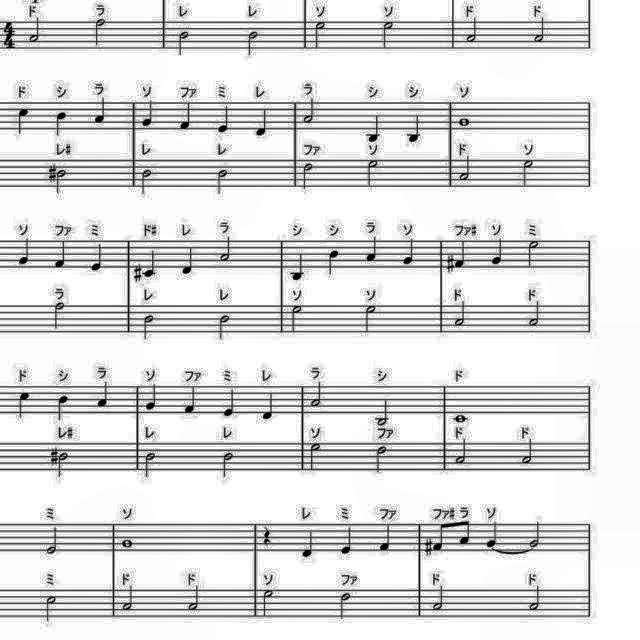Diez: (130, 262, 142, 284), (444, 254, 456, 274), (49, 446, 60, 466), (424, 536, 434, 558), (48, 163, 56, 185)
Eighth-note: (432, 519, 446, 553), (456, 519, 472, 547)
Full-note: (455, 114, 473, 130), (450, 413, 470, 427), (120, 538, 136, 550)
Half-note: (360, 302, 382, 336), (42, 525, 64, 559), (208, 166, 232, 197), (529, 15, 551, 45), (308, 17, 329, 48), (519, 156, 537, 192), (378, 20, 398, 52), (42, 592, 62, 624), (142, 450, 162, 480), (452, 438, 472, 468), (302, 98, 322, 128), (299, 160, 317, 192), (335, 590, 353, 622), (364, 157, 381, 190), (172, 29, 192, 57), (464, 17, 484, 45), (218, 450, 238, 478), (519, 439, 539, 467), (186, 584, 206, 612), (51, 300, 68, 332), (526, 236, 542, 270), (307, 442, 325, 472), (372, 396, 390, 426), (138, 166, 154, 198), (287, 303, 303, 335), (430, 582, 446, 614), (91, 18, 109, 46), (121, 584, 139, 612), (527, 584, 545, 612), (457, 155, 473, 185), (216, 313, 232, 343), (308, 379, 324, 409), (374, 443, 390, 473), (28, 16, 44, 44), (244, 30, 260, 58), (219, 234, 233, 266), (454, 296, 468, 328), (528, 300, 544, 328), (55, 166, 69, 198), (56, 450, 70, 478), (262, 588, 274, 620), (142, 313, 154, 343), (530, 520, 542, 550)
Quarter-note: (404, 112, 426, 146), (366, 112, 386, 146), (140, 246, 160, 280), (137, 99, 159, 129), (338, 526, 358, 558), (482, 519, 503, 549), (89, 241, 107, 275), (290, 249, 308, 283), (184, 383, 202, 417), (177, 100, 196, 132), (376, 522, 396, 552), (14, 104, 32, 136), (16, 236, 34, 268), (179, 244, 197, 276), (401, 236, 419, 268), (95, 379, 114, 409), (492, 235, 508, 269), (302, 526, 318, 560), (363, 234, 381, 264), (13, 389, 31, 419), (216, 102, 232, 134), (454, 238, 470, 270), (223, 384, 237, 420), (326, 248, 342, 278), (56, 392, 72, 422), (145, 383, 161, 413), (260, 392, 276, 421), (53, 108, 69, 136), (92, 97, 108, 125), (256, 107, 270, 139), (54, 238, 68, 270)
Quarter-rest: (260, 524, 276, 548)
